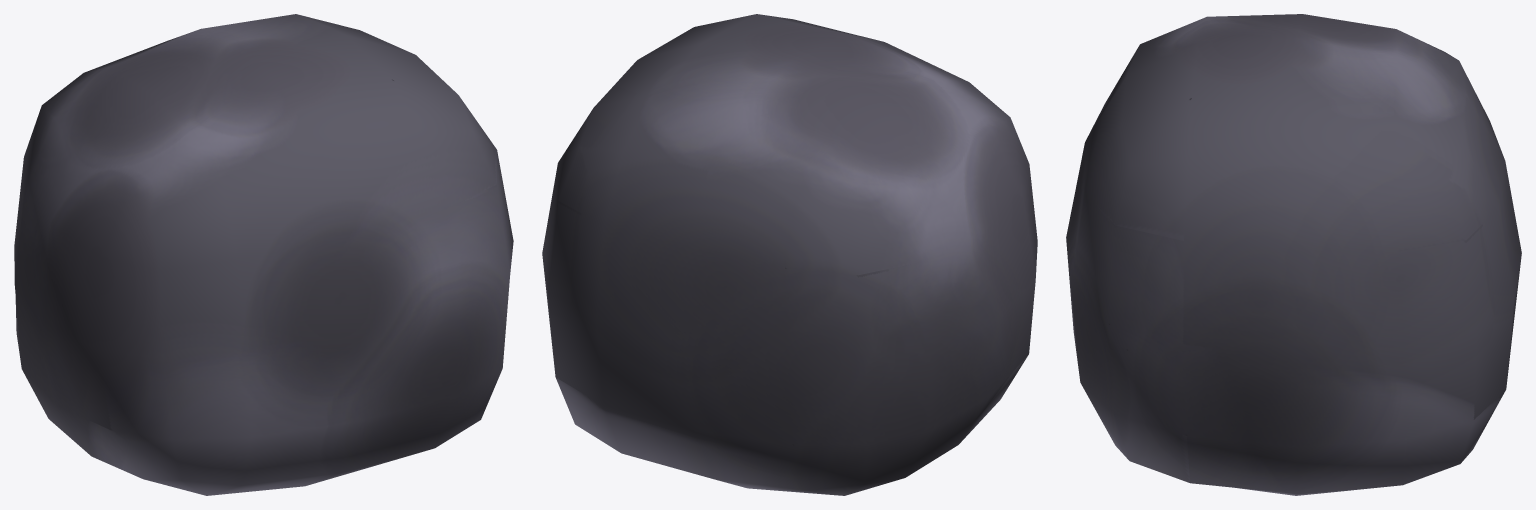
The model's file is asteroide1.fbx.
3 renders of one model, left to right at view 1: azimuth 30°, elevation 25°; view 2: azimuth 150°, elevation 25°; view 3: azimuth 270°, elevation 25°, orthographic. The views are drawn at different scales.
Parts seen in each view (by area): view 1: Asteroide1; view 2: Asteroide1; view 3: Asteroide1.
Part boxes in pixels (x1,y1,x2,y2): Asteroide1: (14, 14, 513, 495); Asteroide1: (542, 14, 1037, 495); Asteroide1: (1066, 14, 1521, 495).
Bounding box in the file's own units: 338 × 312 × 309.
Materials: 1 (1 with a texture image).
